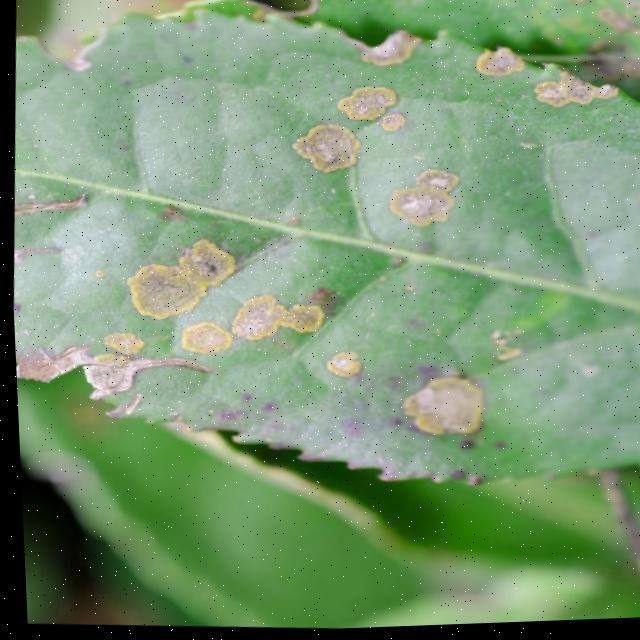Tea red rust: (2, 25, 640, 458)
